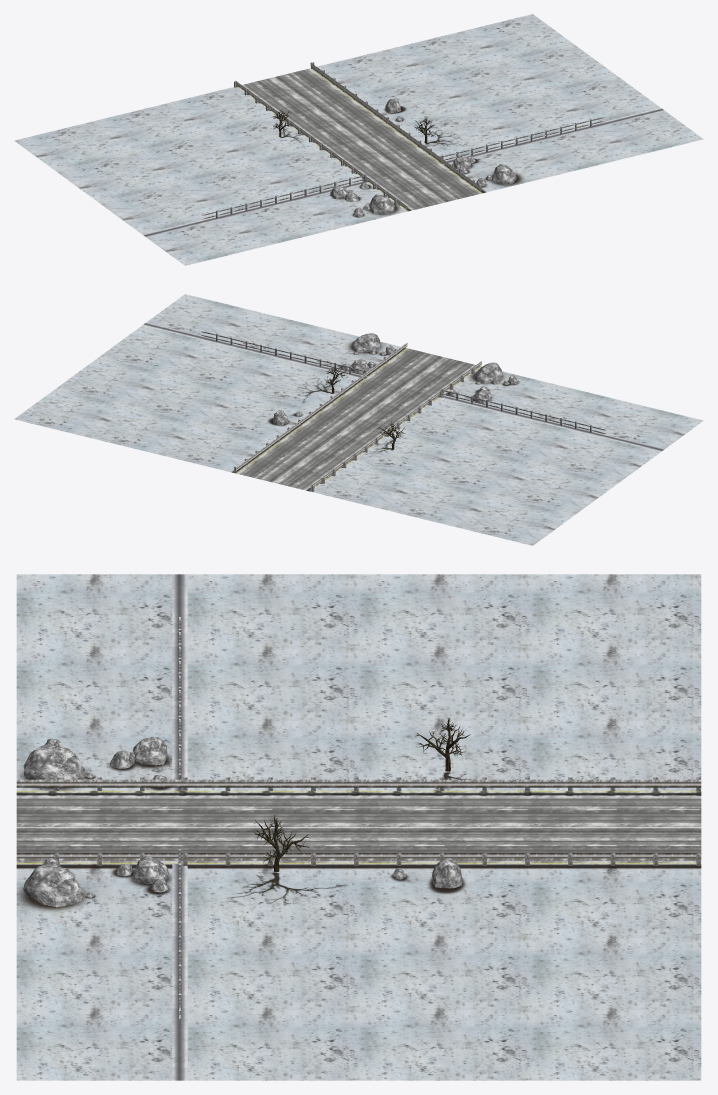
Rendered from end2.FBX.
The picture shows the model from 3 angles, top to bottom: view 1: azimuth 30°, elevation 25°; view 2: azimuth 150°, elevation 25°; view 3: azimuth 270°, elevation 25°; orthographic projection. The views are drawn at different scales.
Visible parts, largest first — view 1: end2, road001, boundry1, rock, relling001, Box038; view 2: end2, road001, boundry1, rock, relling001, Box038; view 3: end2, road001, relling001, rock, boundry1, Box038.
Boxes of the visible parts, x1=… form: end2: x1=14, y1=14, x2=703, y2=265; road001: x1=237, y1=68, x2=481, y2=211; boundry1: x1=142, y1=108, x2=664, y2=237; rock: x1=330, y1=98, x2=516, y2=216; relling001: x1=234, y1=62, x2=481, y2=209; Box038: x1=272, y1=109, x2=435, y2=143; end2: x1=14, y1=294, x2=703, y2=545; road001: x1=236, y1=348, x2=481, y2=491; boundry1: x1=143, y1=322, x2=664, y2=451; rock: x1=273, y1=333, x2=517, y2=425; relling001: x1=234, y1=343, x2=481, y2=491; Box038: x1=324, y1=366, x2=405, y2=449; end2: x1=16, y1=574, x2=701, y2=1080; road001: x1=16, y1=791, x2=701, y2=863; relling001: x1=16, y1=777, x2=701, y2=865; rock: x1=23, y1=737, x2=462, y2=907; boundry1: x1=172, y1=574, x2=187, y2=1080; Box038: x1=253, y1=718, x2=470, y2=871.
Bounding box in the file's own units: 140 × 8.74 × 80.
